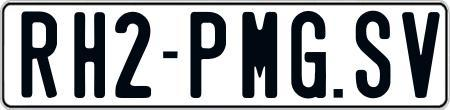2: (112, 12, 154, 104)
G: (289, 11, 330, 101)
H: (74, 9, 107, 100)
M: (241, 12, 278, 100)
P: (189, 9, 230, 95)
R: (19, 11, 54, 99)
S: (356, 11, 391, 104)
V: (399, 12, 432, 98)
